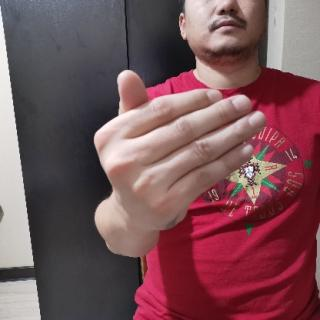KHAA: (90, 66, 274, 232)
